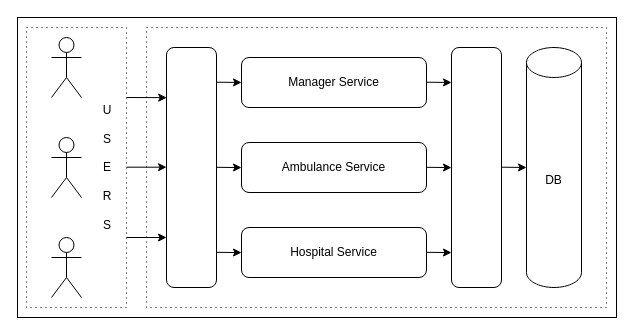
Some shapes in this 634 by 335 pixel diagram are drawn without their labels. The shapes that lost their labels are listed below. From the top down, each one's box as (x1, y1, x2, y2) in pixels, then its label:
(166, 46, 216, 288): E S B
(450, 46, 502, 288): D B S E R V I C E
